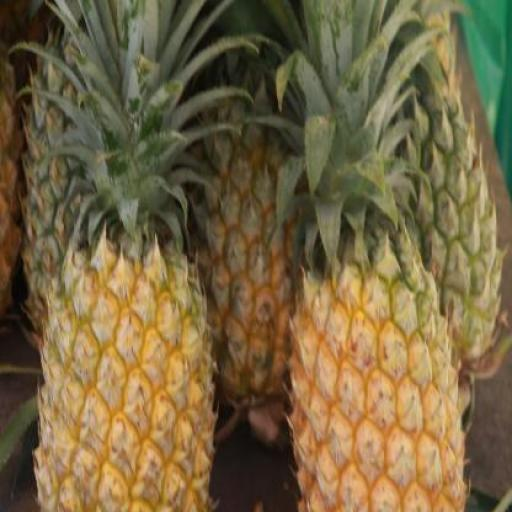Pineapple - v8 v1: (36, 232, 218, 511), (286, 257, 472, 512)
